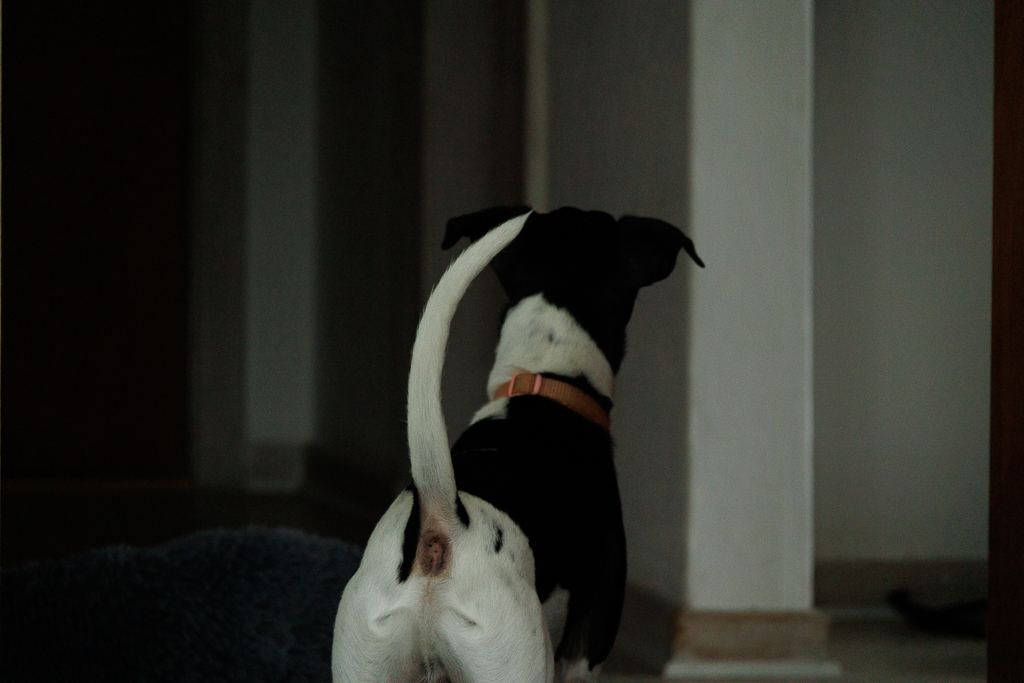Dog: (315, 194, 717, 683)
